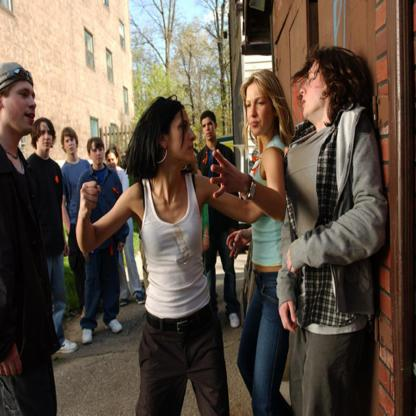face: (4, 80, 37, 132), (301, 60, 328, 118), (167, 111, 196, 162), (247, 87, 274, 136), (38, 123, 53, 150), (91, 142, 105, 164), (203, 120, 216, 140), (64, 135, 77, 154), (108, 154, 118, 170)
